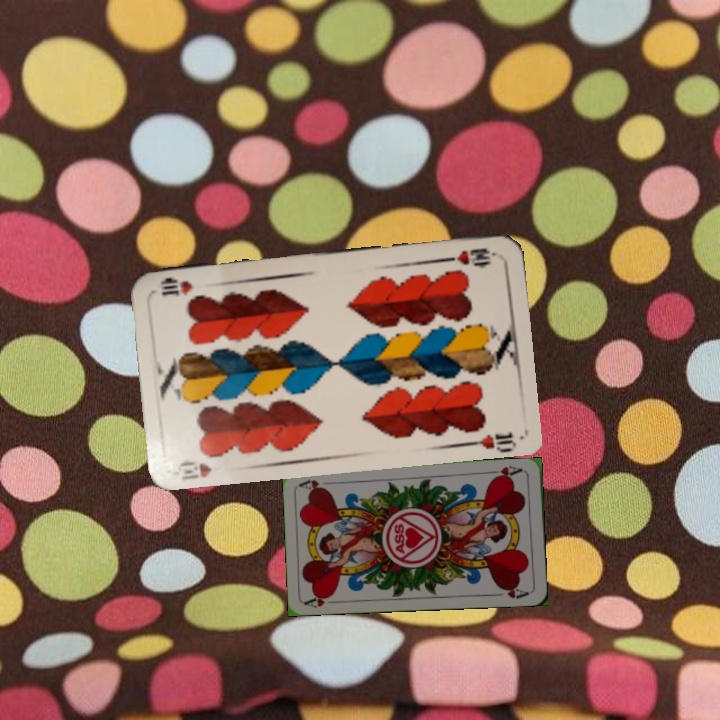H10: (441, 243, 499, 268), (170, 457, 215, 482)
HA: (302, 590, 343, 611), (485, 462, 525, 482)
